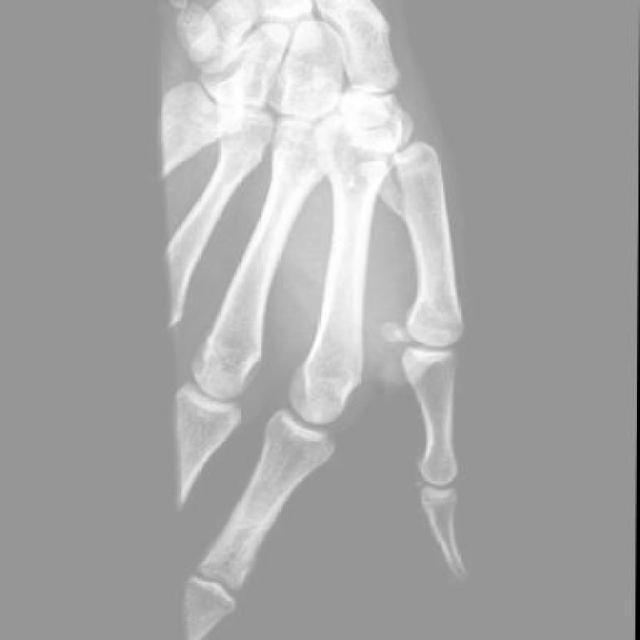Fracture: (359, 152, 424, 225)
